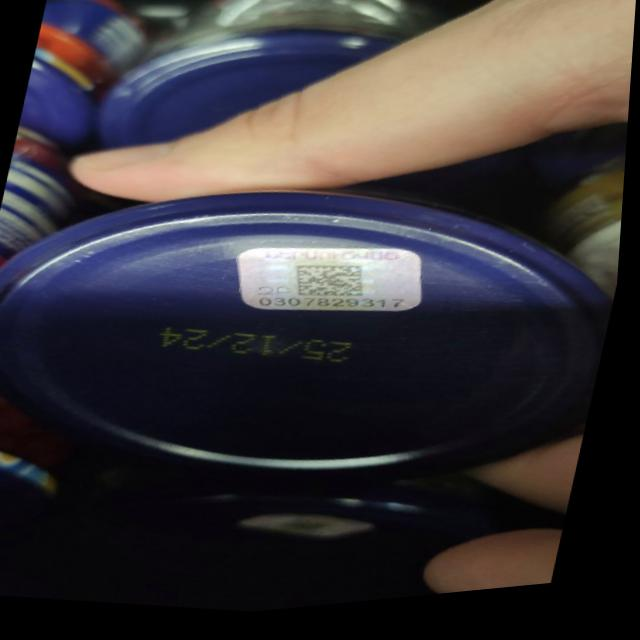datamatrix: (289, 261, 379, 315)
